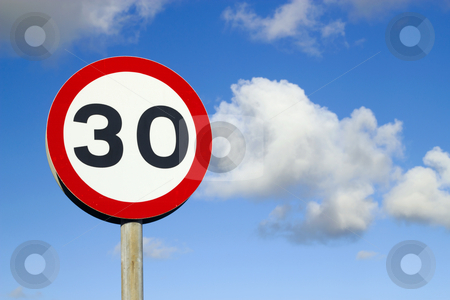Speed_limit_30km: (47, 56, 212, 222)
